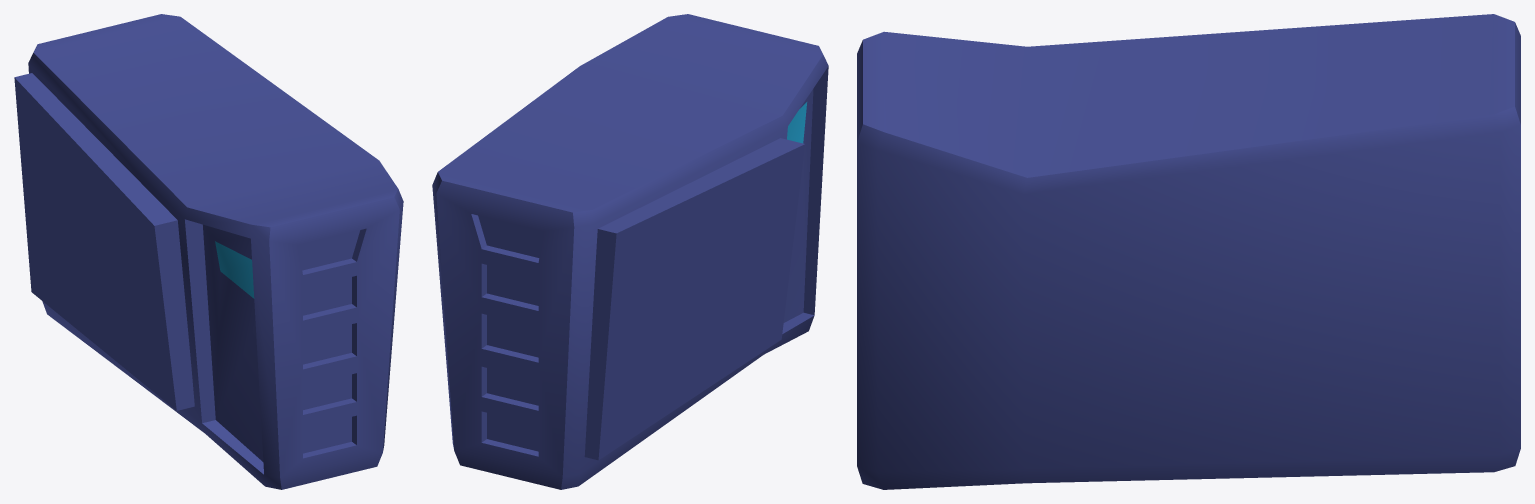
File: SM_Vent_03.fbx
3 views of the same model, side by side, from view 1: azimuth 30°, elevation 25°; view 2: azimuth 150°, elevation 25°; view 3: azimuth 270°, elevation 25° (orthographic). The views are drawn at different scales.
Visible parts, largest first — view 1: SM_Vent_03; view 2: SM_Vent_03; view 3: SM_Vent_03.
Boxes of the visible parts, x1,y1,x2,y2 form: SM_Vent_03: (14, 14, 403, 489); SM_Vent_03: (432, 14, 828, 489); SM_Vent_03: (857, 14, 1520, 489).
Bounding box in the file's own units: 180 × 215 × 332.
